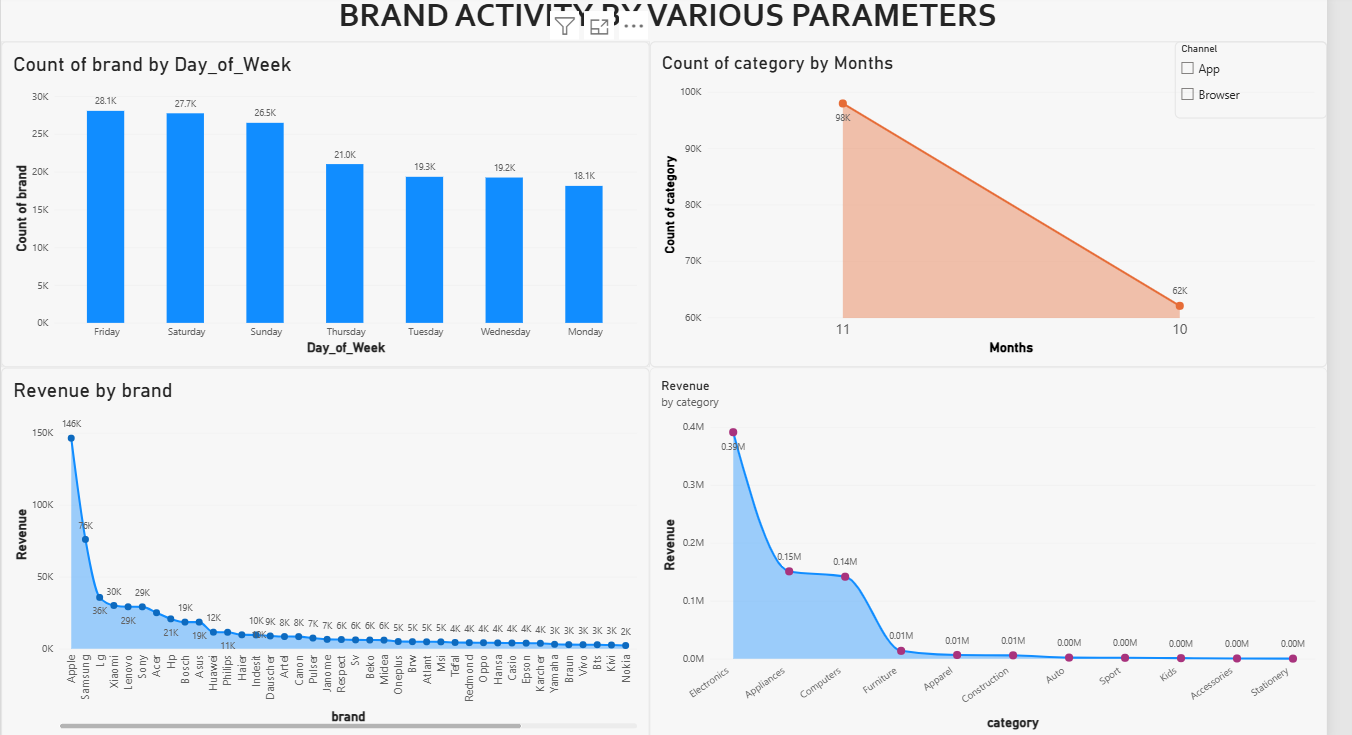

Layout of this report page (visuals, bound fields, positions):
{"tool":"powerbi","page":{"name":"Brand/Category Activity","canvas":[1920,1080],"ordinal":4},"visuals":[{"type":"textbox","box":[10.9,0,1909.2,67],"z":0},{"type":"areaChart","fields":{"Category":["Sales_Data_Ecommerce.brand"],"Y":["Sales_Data_Ecommerce.Revenue"]},"box":[0,539.3,939.2,541.1],"z":1},{"type":"areaChart","fields":{"Category":["Sales_Data_Ecommerce.category"],"Y":["Sales_Data_Ecommerce.Revenue"]},"box":[939.2,539.3,980.8,541.1],"z":2},{"type":"areaChart","fields":{"Category":["Sales_Data_Ecommerce.Months"],"Y":["CountNonNull(Sales_Data_Ecommerce.category)"]},"box":[939.2,67,980.8,472.3],"z":3},{"type":"clusteredColumnChart","fields":{"Category":["Sales_Data_Ecommerce.Day_of_Week"],"Y":["CountNonNull(Sales_Data_Ecommerce.brand)"]},"box":[0,67,939.2,472.3],"z":4},{"type":"slicer","fields":{"Values":["Sales_Data_Ecommerce.Channel"]},"box":[1699.3,67,220.8,112.2],"z":5}]}

Visuals, with their boxes on the page's 1920x1080 design canvas (x1, y1, x2, y2). These are canvas units, not pixel positions in the 1352x735 screenshot, which may show the page scaled, cropped or inside an application window:
textbox: x1=11 y1=0 x2=1920 y2=67
areaChart - Sales_Data_Ecommerce.brand x Sales_Data_Ecommerce.Revenue: x1=0 y1=539 x2=939 y2=1080
areaChart - Sales_Data_Ecommerce.category x Sales_Data_Ecommerce.Revenue: x1=939 y1=539 x2=1920 y2=1080
areaChart - Sales_Data_Ecommerce.Months x CountNonNull(Sales_Data_Ecommerce.category): x1=939 y1=67 x2=1920 y2=539
clusteredColumnChart - Sales_Data_Ecommerce.Day_of_Week x CountNonNull(Sales_Data_Ecommerce.brand): x1=0 y1=67 x2=939 y2=539
slicer - Sales_Data_Ecommerce.Channel: x1=1699 y1=67 x2=1920 y2=179
